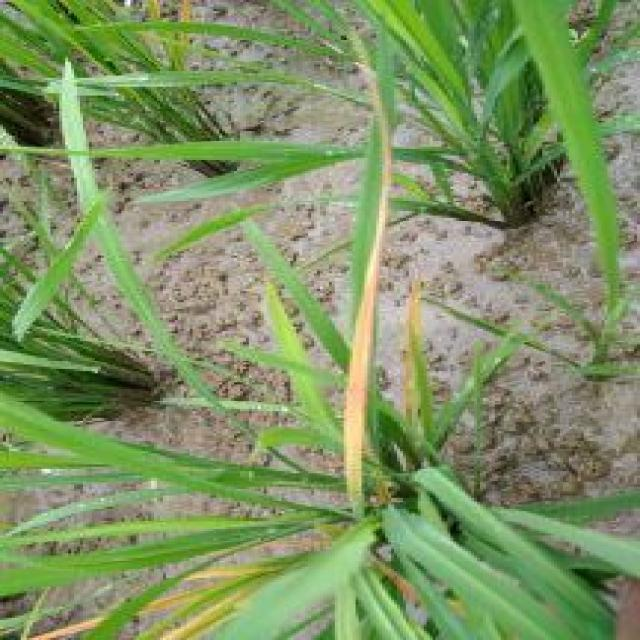Tungro: (324, 25, 411, 542)
